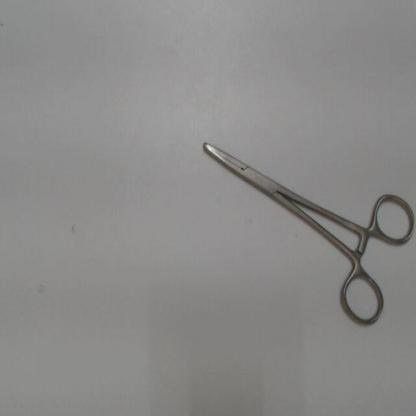Mayo Needle Holder: (192, 128, 413, 335)
